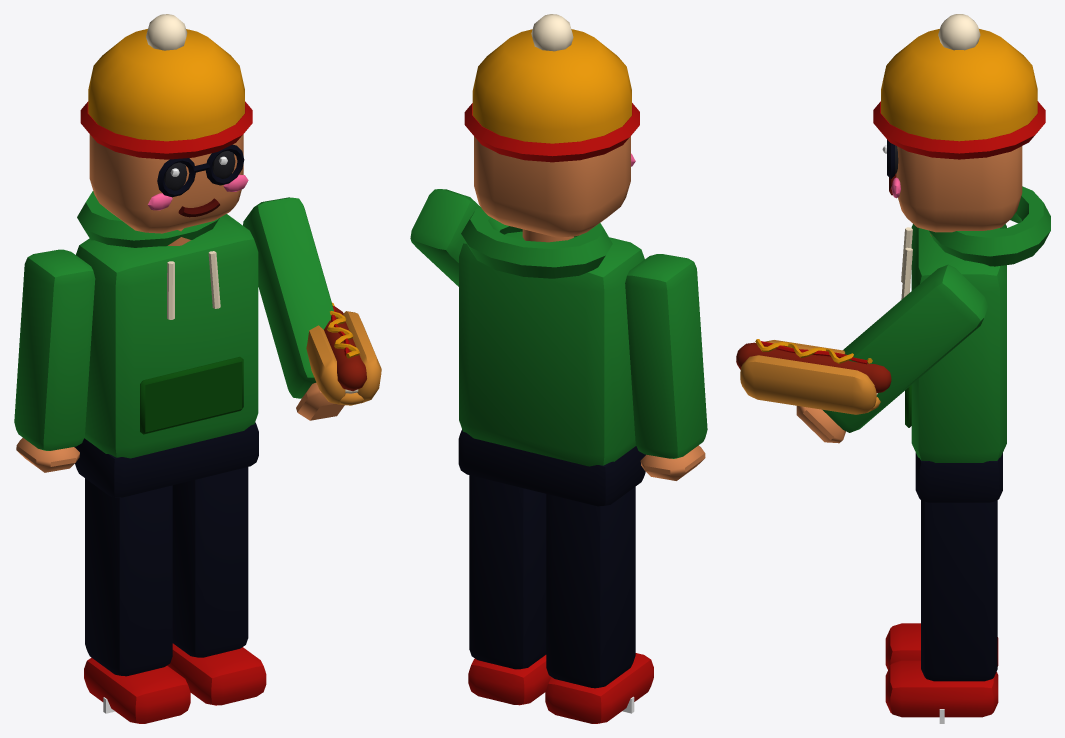
Rendered from CustomerC.fbx.
The picture shows the model from 3 angles, left to right: view 1: azimuth 30°, elevation 25°; view 2: azimuth 150°, elevation 25°; view 3: azimuth 270°, elevation 25°; orthographic projection.
Visible parts, largest first — view 1: CustomerC; view 2: CustomerC; view 3: CustomerC.
Part boxes in pixels (left/top/right/bottom): CustomerC: left=14, top=14, right=381, bottom=723; CustomerC: left=410, top=14, right=707, bottom=723; CustomerC: left=736, top=14, right=1050, bottom=723.
Bounding box in the file's own units: 2.49 × 5.61 × 2.37.
